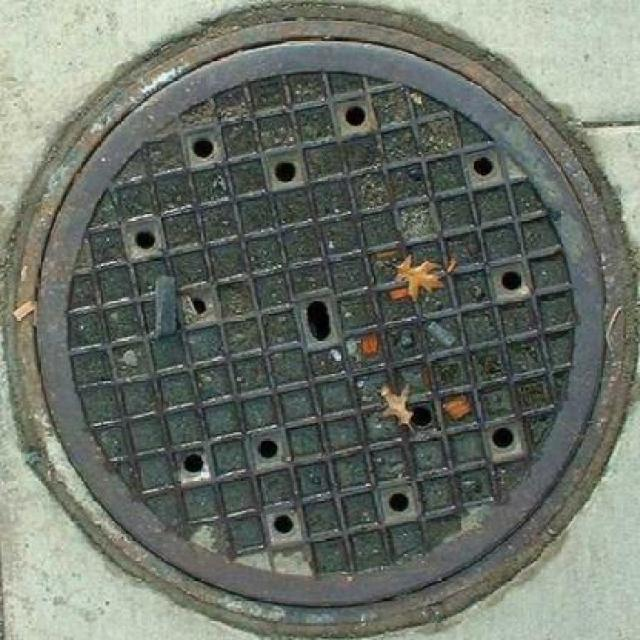Manhole: (6, 2, 640, 638)
